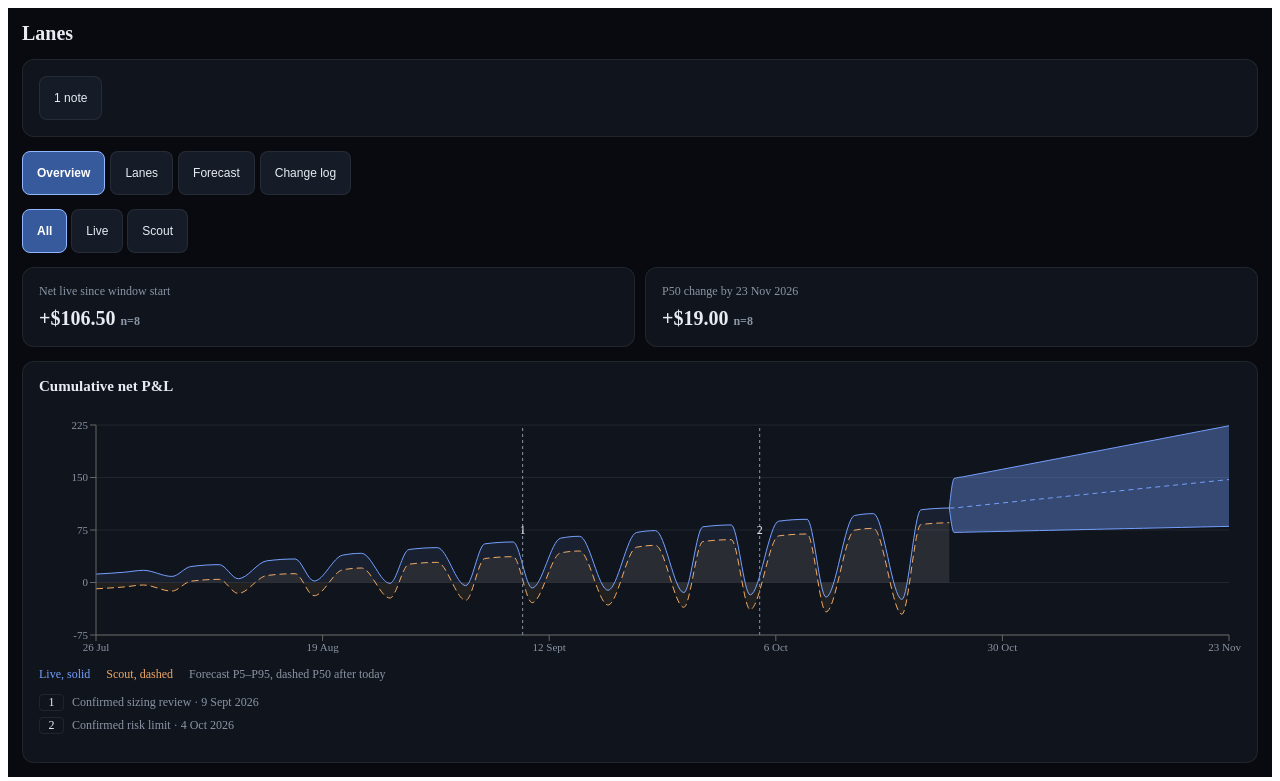
Scenario: LanePerformanceView › renders unknown unit and kind, and a populated forecast
Click the button "Lanes". click: (142, 173)
box: [110,151,173,195]
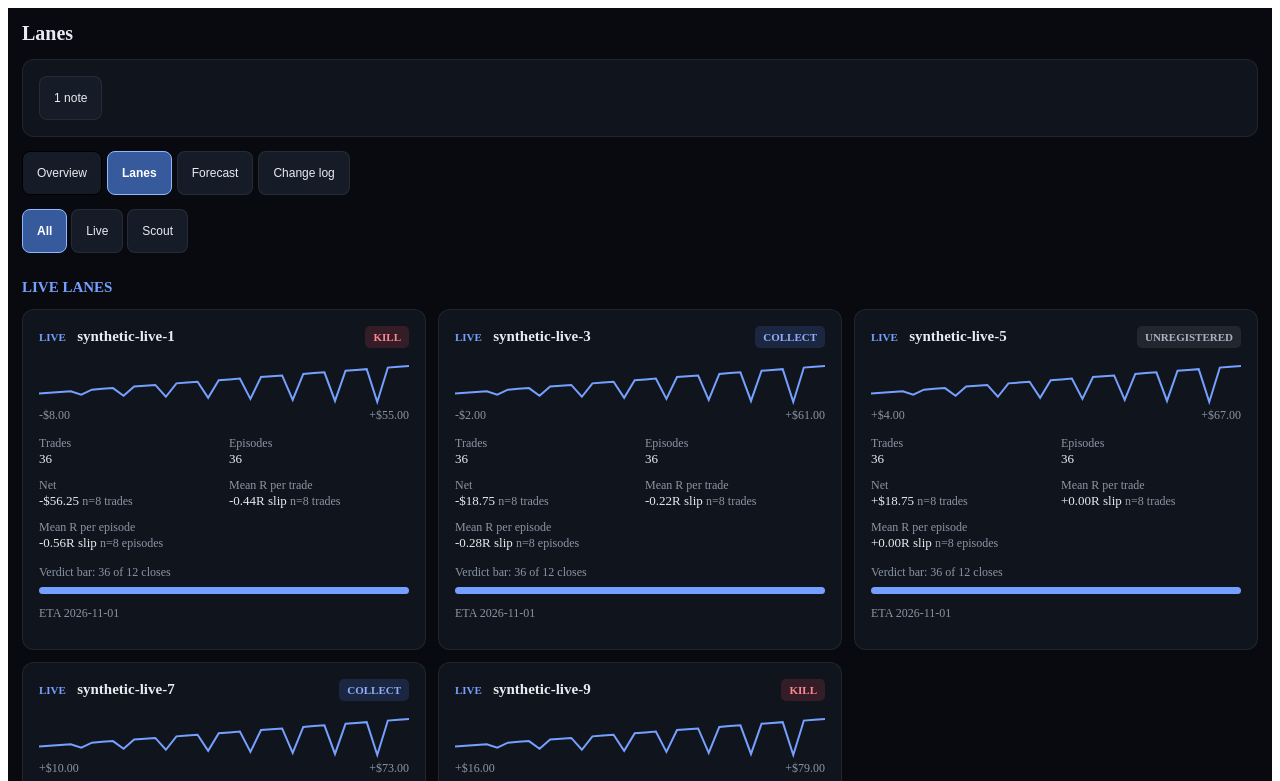
Click the button "Forecast". click: (215, 173)
box: [177,151,253,195]
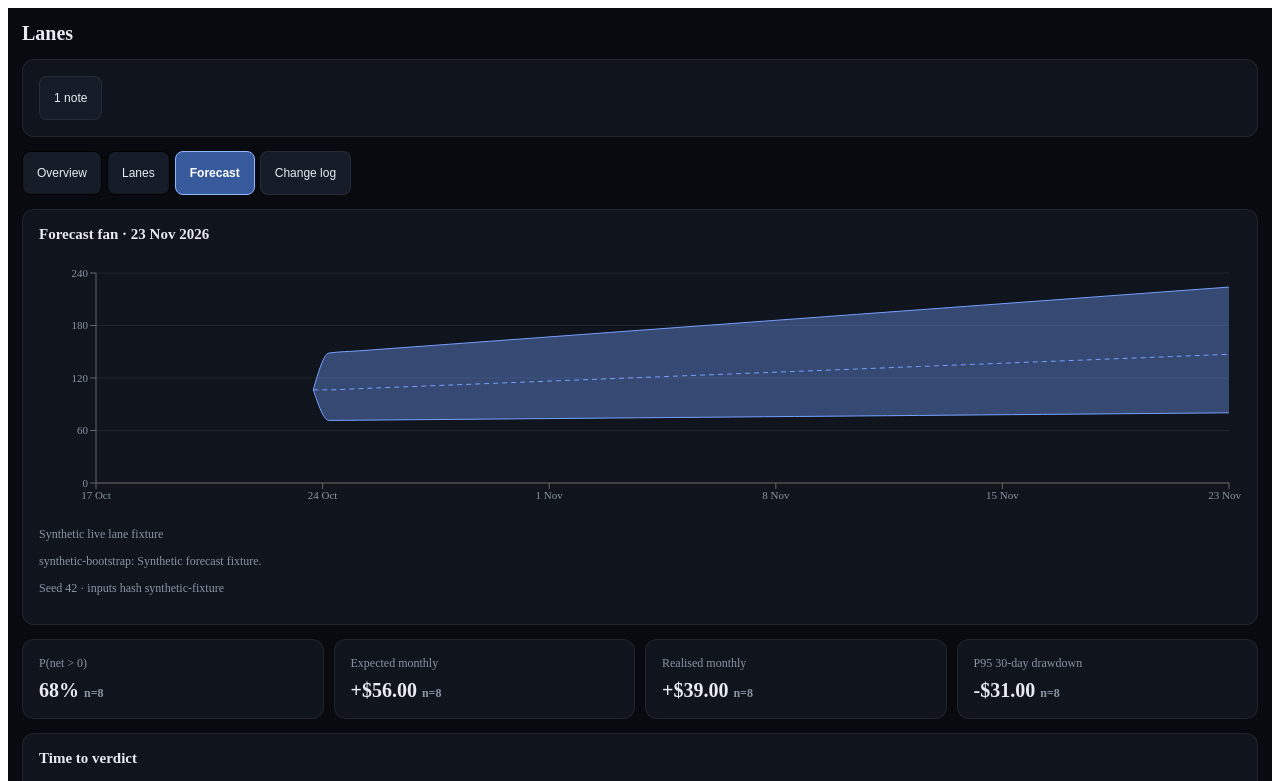
Expected: the picture named "Forecast fan" is shown, [39,255,1241,515]
